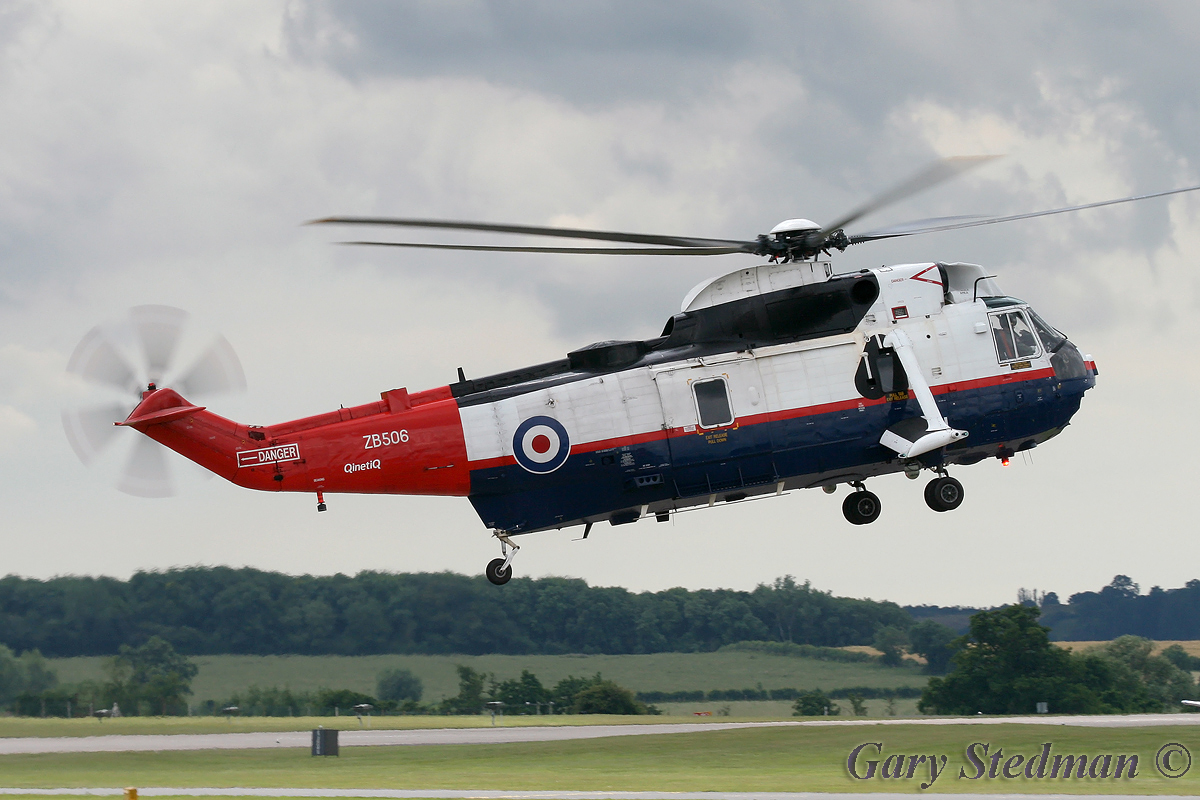Sea King: (41, 193, 1109, 594)
